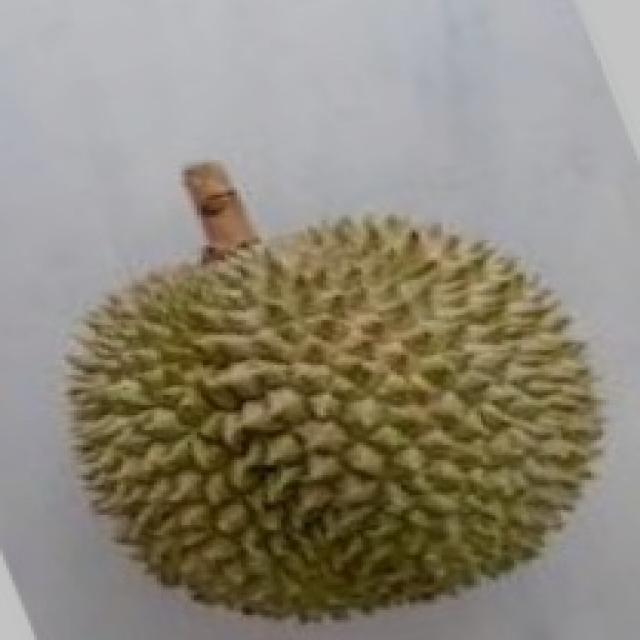fruit: (283, 202, 637, 638), (10, 218, 372, 638)
